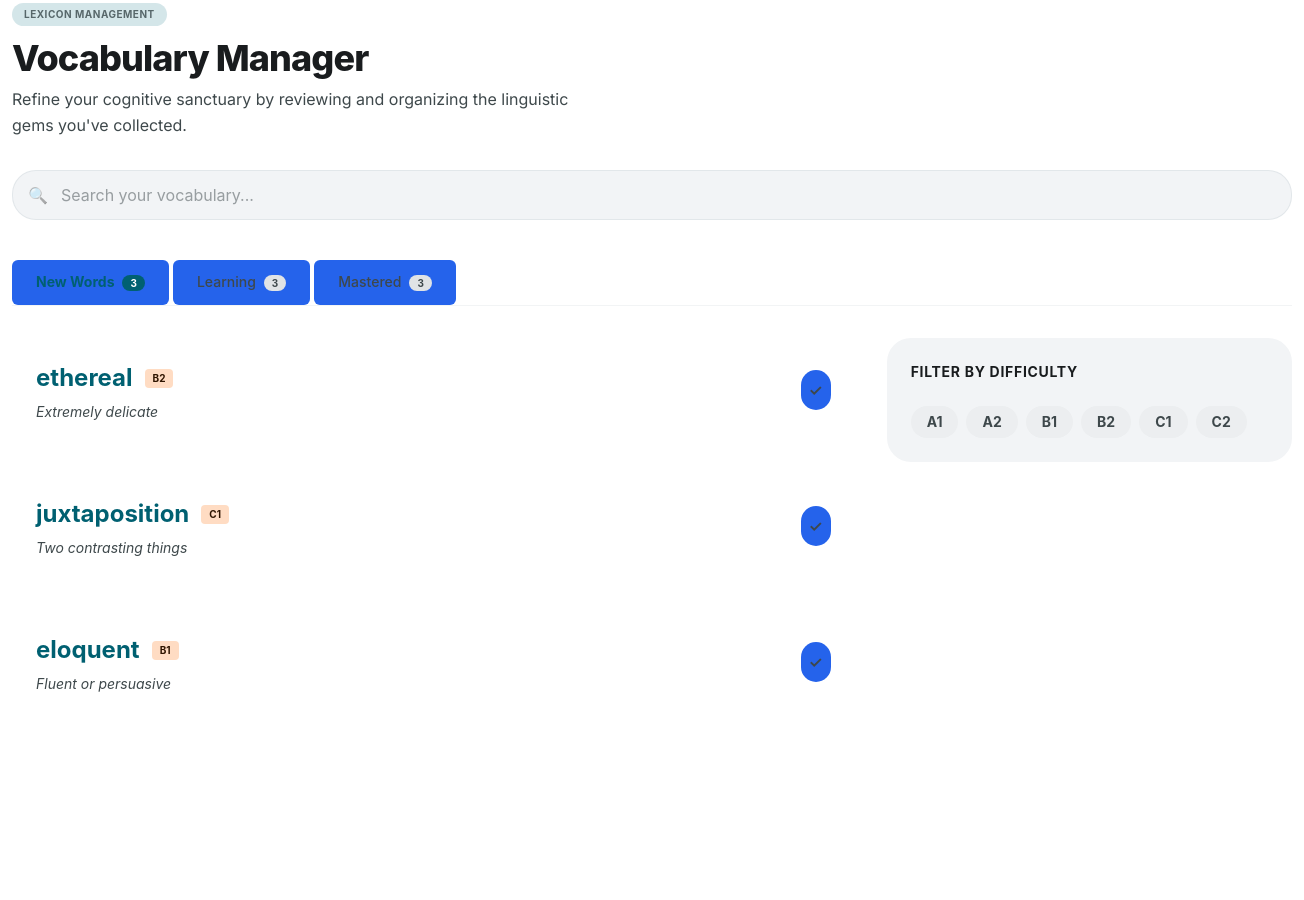
Test case: VocabularyPage › switches to Learning tab and shows only learning words
Click the button with test id "tab-learning" at (242, 282), box [173,260,310,305]
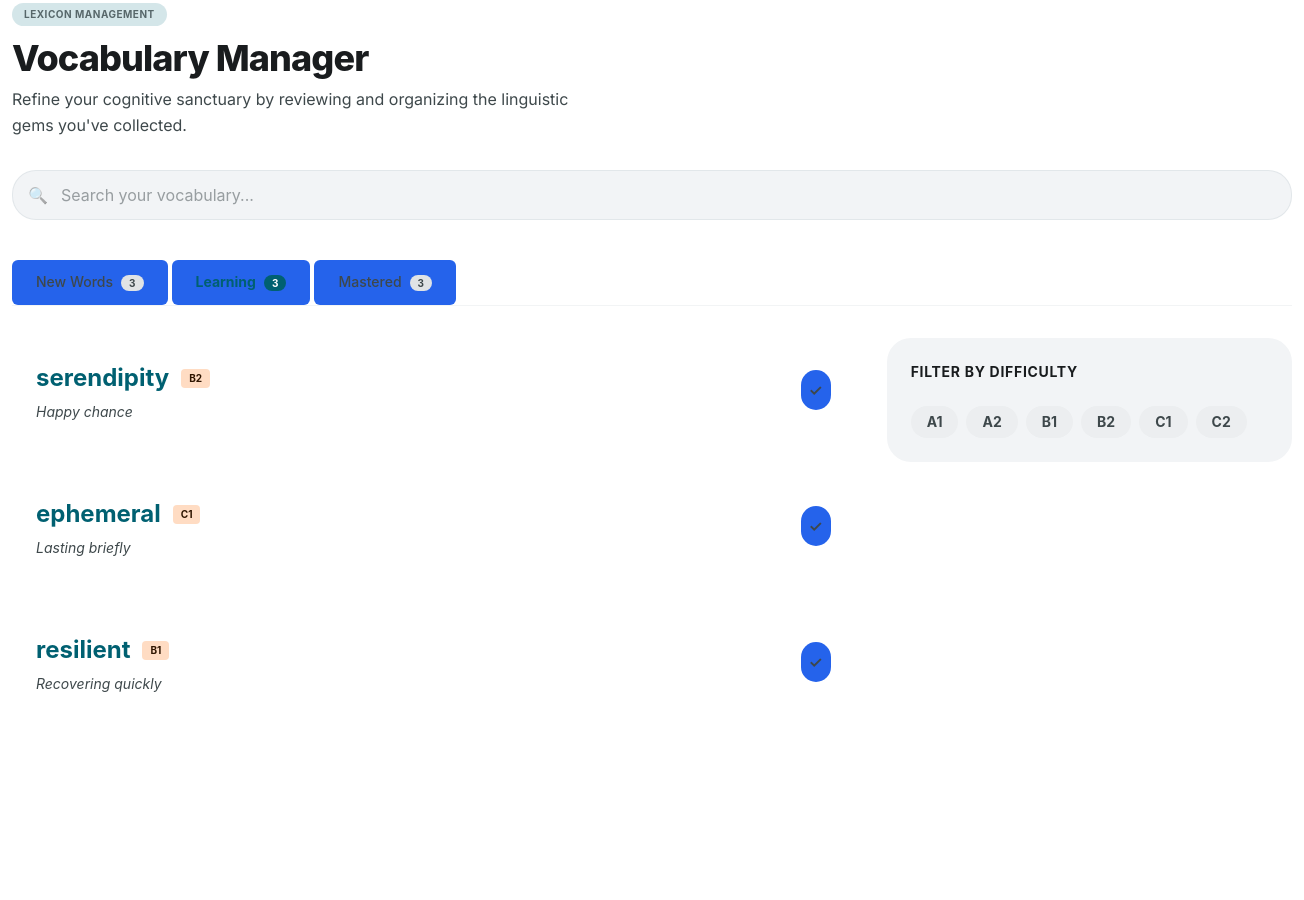
expect the heading "serendipity" is shown: met, box [36,362,169,394]
expect the heading "ephemeral" is shown: met, box [36,498,161,530]
expect the heading "resilient" is shown: met, box [36,634,130,666]
